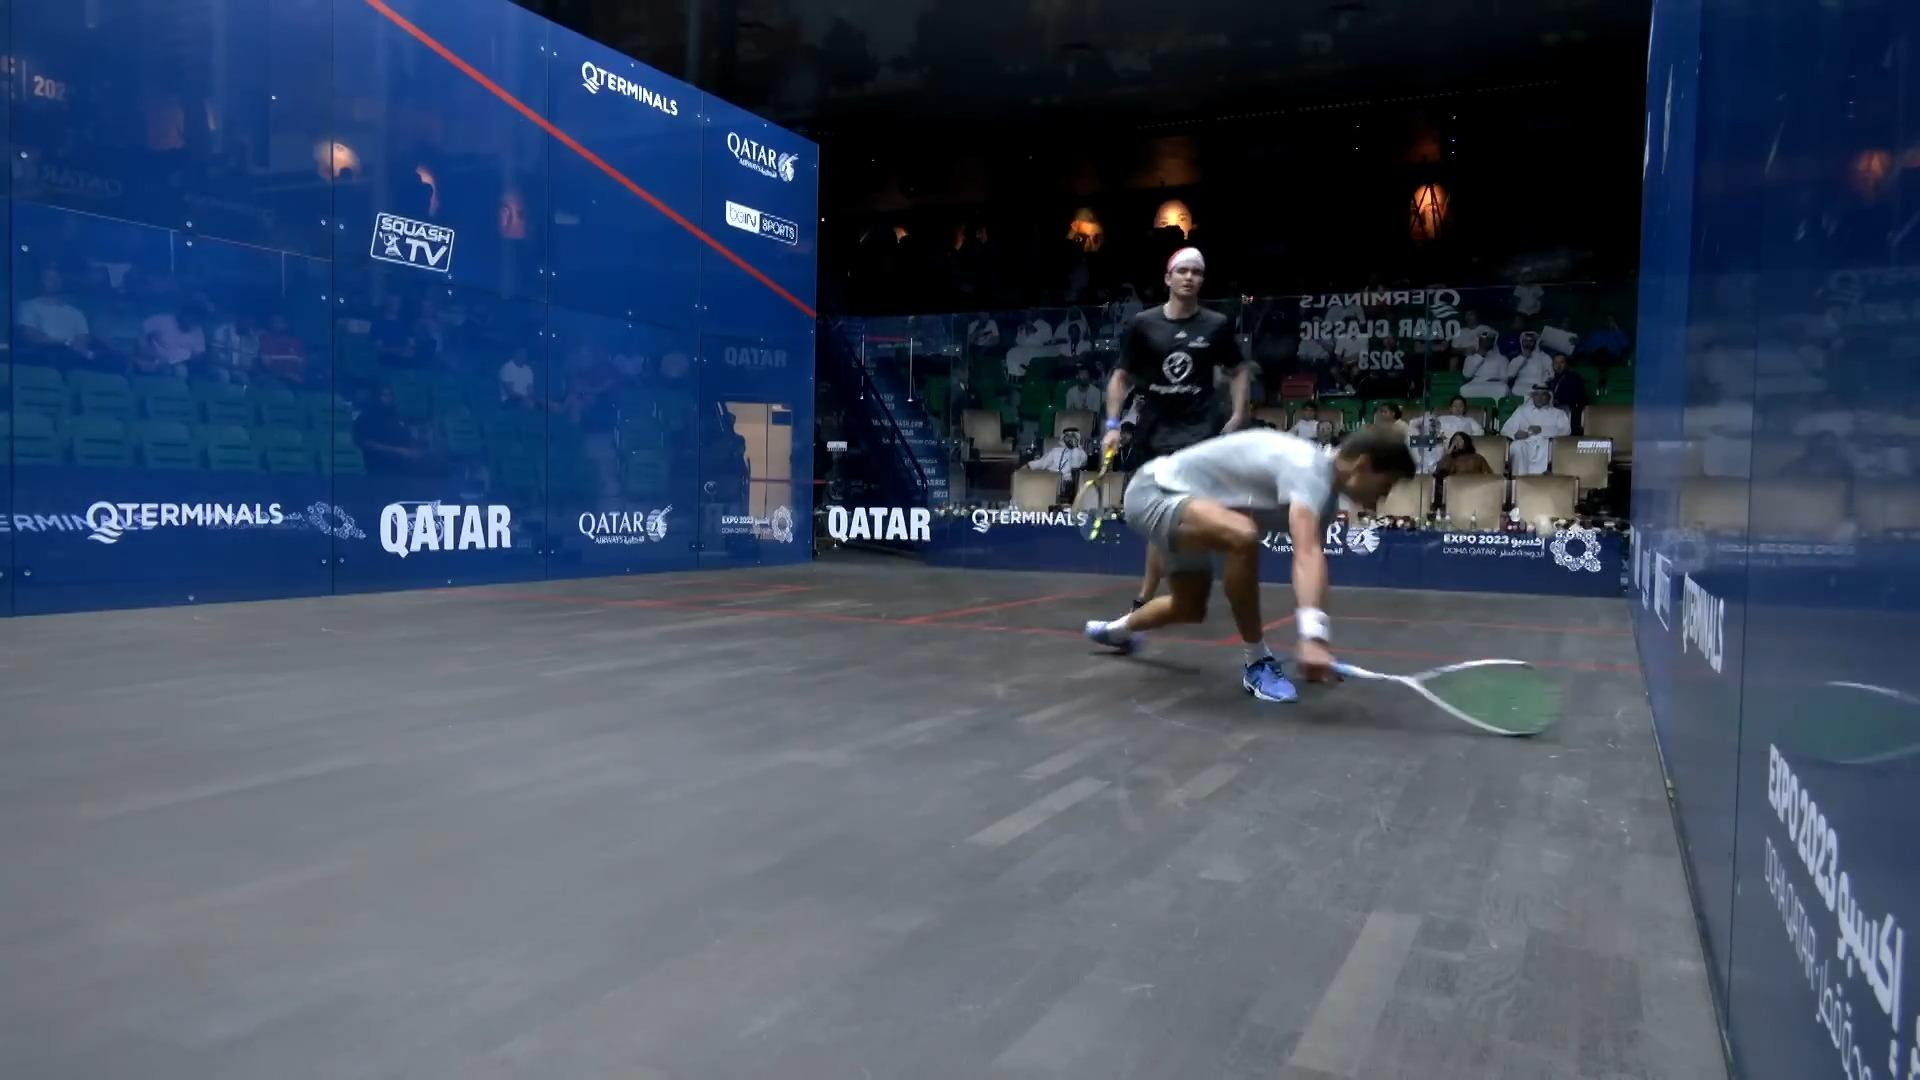Racket: (1329, 651, 1560, 748), (1064, 451, 1122, 543)
